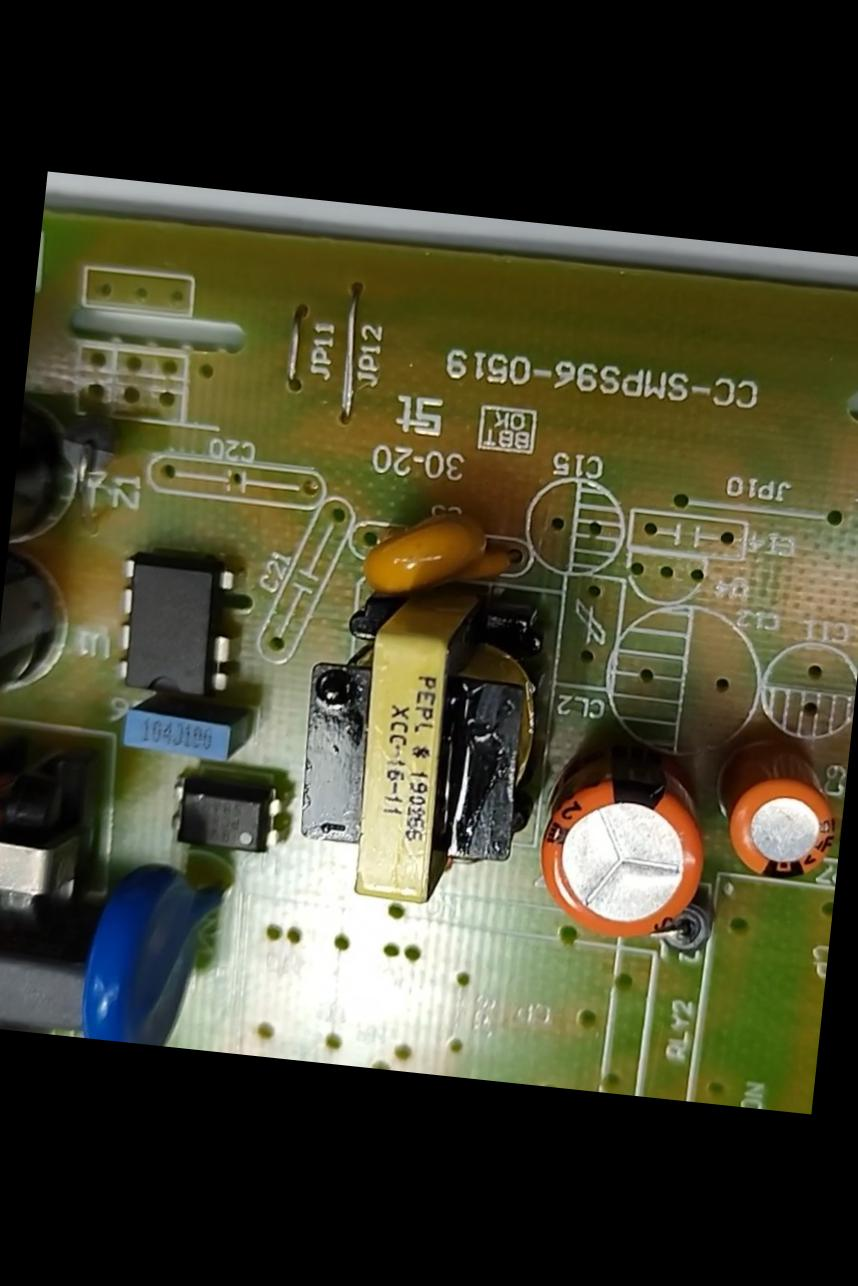Cap1: (520, 718, 720, 966)
Cap2: (704, 721, 850, 892)
Cap3: (0, 547, 114, 771)
Cap4: (2, 364, 144, 610)
MOSFET: (88, 540, 252, 714)
Mov: (63, 827, 223, 1049)
Resistor: (0, 1012, 69, 1037)
Transformer: (274, 552, 576, 933), (0, 715, 115, 955)
